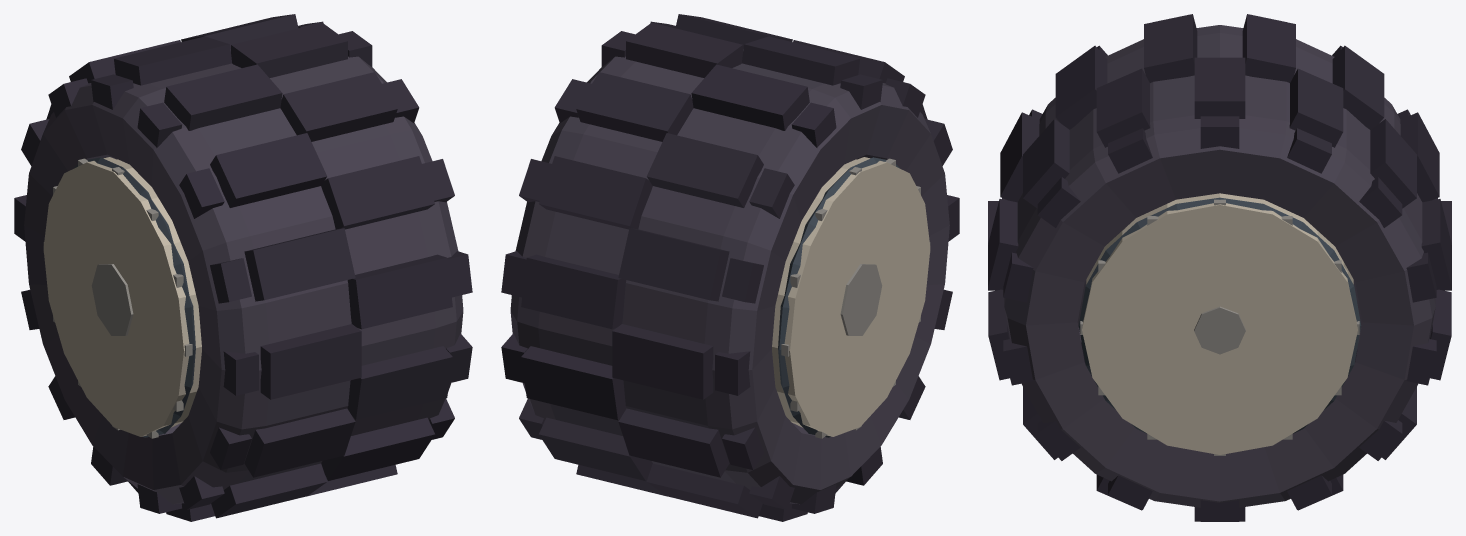
Rendered from veloce_wheels.glb.
The picture shows the model from 3 angles, left to right: view 1: azimuth 30°, elevation 25°; view 2: azimuth 150°, elevation 25°; view 3: azimuth 270°, elevation 25°; orthographic projection.
Visible parts, largest first — view 1: veloce_wheel, veloce_rim; view 2: veloce_wheel, veloce_rim; view 3: veloce_wheel, veloce_rim.
Boxes of the visible parts, left/top/right/bottom form: veloce_wheel: left=14, top=14, right=472, bottom=521; veloce_rim: left=43, top=157, right=201, bottom=438; veloce_wheel: left=501, top=14, right=959, bottom=521; veloce_rim: left=772, top=157, right=930, bottom=438; veloce_wheel: left=988, top=14, right=1451, bottom=521; veloce_rim: left=1078, top=193, right=1361, bottom=455.
Size of the model in its own units: 0.7656 by 1.18 by 1.18.
